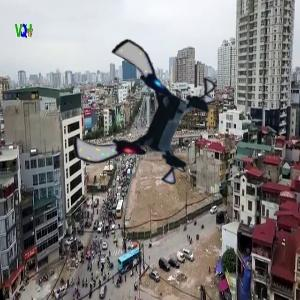drone: (78, 53, 211, 186)
